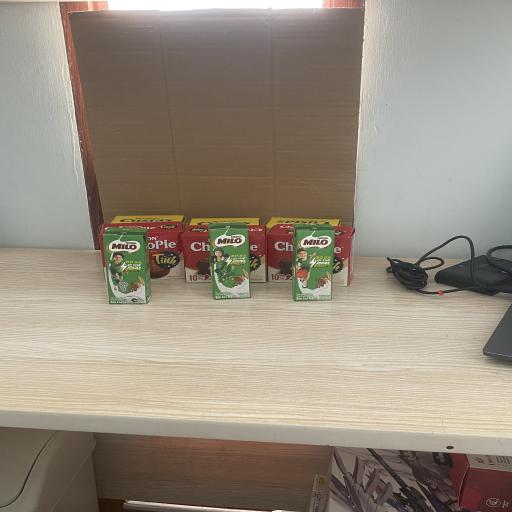chocopie: (265, 224, 356, 286), (99, 221, 184, 281), (182, 224, 266, 284)
custas: (264, 218, 342, 232), (108, 214, 187, 226), (188, 218, 260, 226)
milo: (101, 224, 152, 304), (292, 224, 336, 302), (207, 224, 250, 300)
